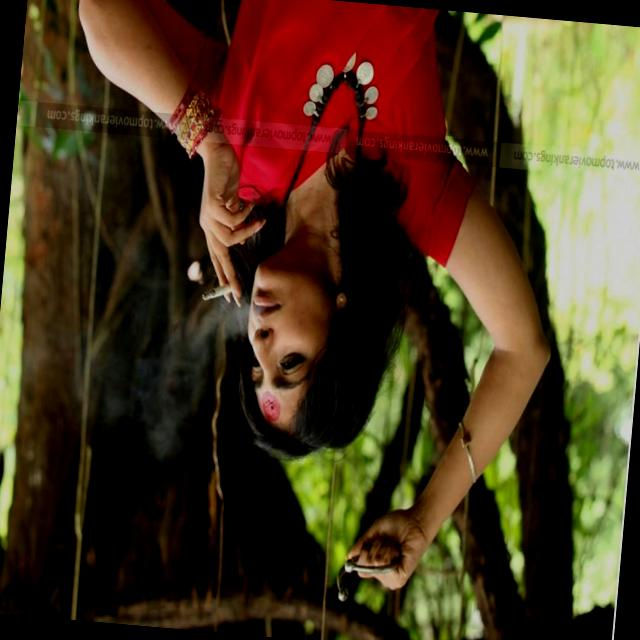cigarette: (182, 276, 247, 313)
